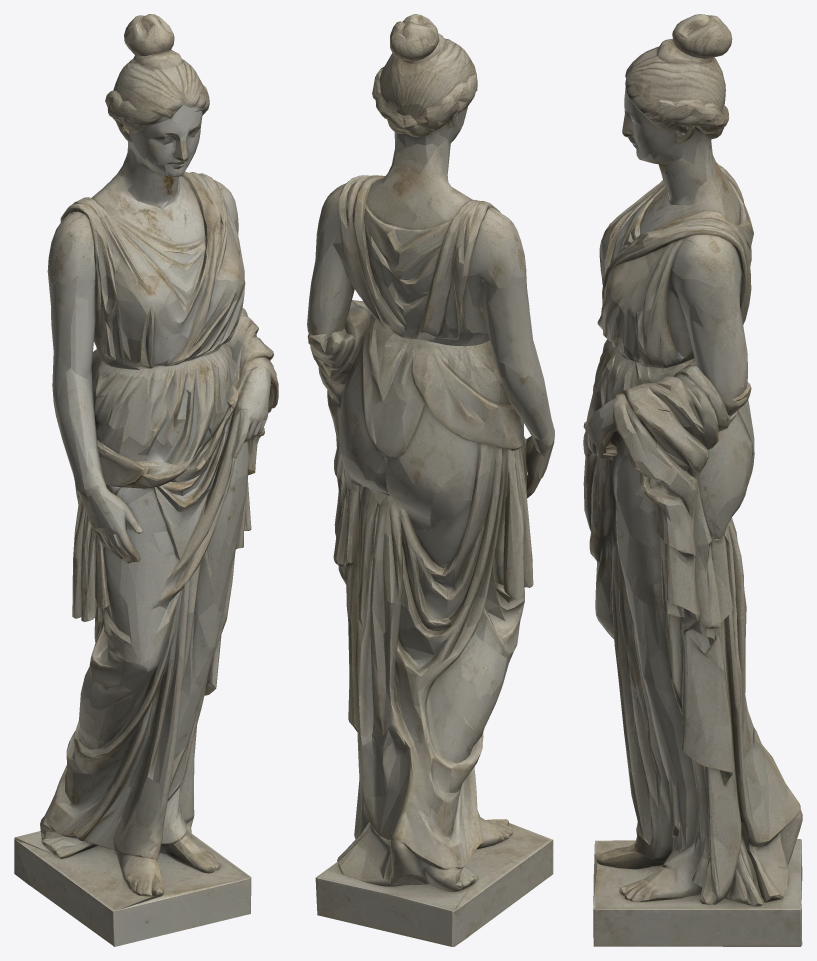
The model's file is statue-muse.glb.
3 renders of one model, left to right at view 1: azimuth 30°, elevation 25°; view 2: azimuth 150°, elevation 25°; view 3: azimuth 270°, elevation 25°, orthographic. The views are drawn at different scales.
Parts seen in each view (by area): view 1: statue-muse; view 2: statue-muse; view 3: statue-muse.
Part boxes in pixels (bbox=[...]): statue-muse: bbox=[14, 14, 278, 946]; statue-muse: bbox=[307, 14, 554, 946]; statue-muse: bbox=[583, 14, 802, 946].
Bounding box in the file's own units: 0.4454 × 1.75 × 0.3834.
1 material, 1 textured.
